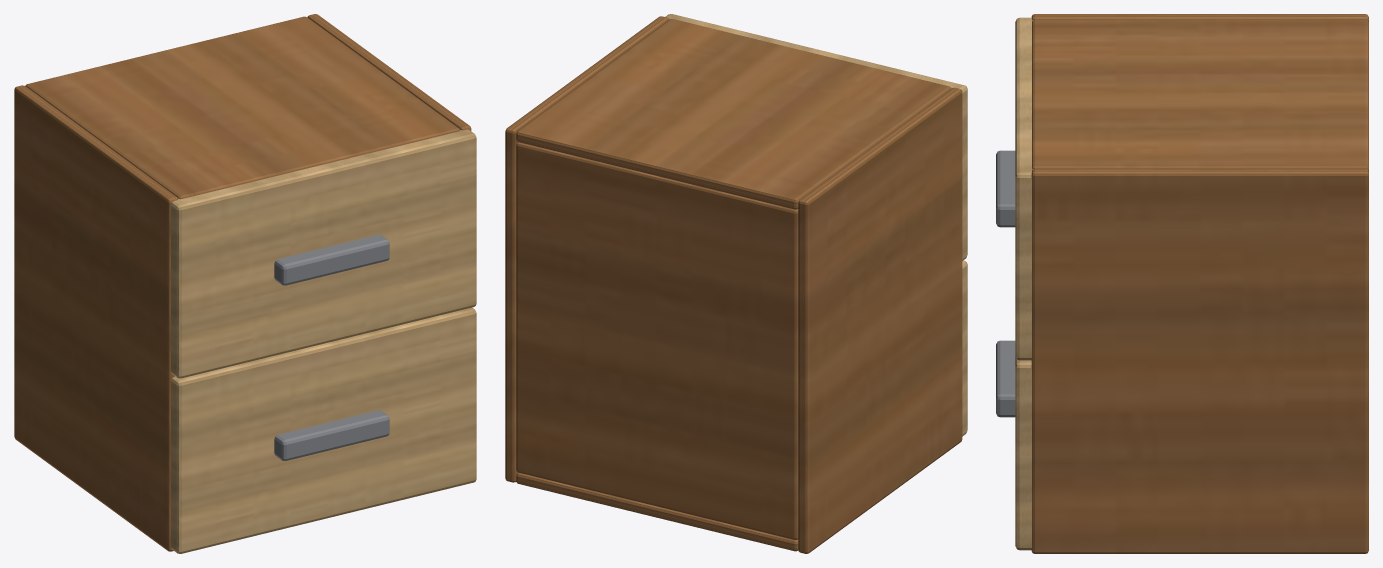
File: nightstand.glb
The picture shows the model from 3 angles, left to right: view 1: azimuth 30°, elevation 25°; view 2: azimuth 150°, elevation 25°; view 3: azimuth 270°, elevation 25°; orthographic projection. The views are drawn at different scales.
Visible parts, largest first — view 1: ns_body, part_drawer, part_drawer2; view 2: ns_body, part_drawer, part_drawer2; view 3: ns_body, part_drawer, part_drawer2.
Part boxes in pixels (box(x1,y1,x2,y2)): ns_body: box(14, 14, 471, 551); part_drawer: box(171, 129, 476, 378); part_drawer2: box(171, 307, 476, 553); ns_body: box(505, 16, 962, 553); part_drawer: box(665, 14, 967, 260); part_drawer2: box(962, 260, 967, 436); ns_body: box(1031, 14, 1368, 553); part_drawer: box(996, 17, 1032, 360); part_drawer2: box(996, 340, 1031, 550).
Size of the model in its own units: 0.45 by 0.5 by 0.442.
4 materials, 3 textured.
